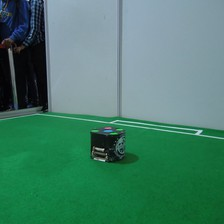robot: (87, 124, 127, 162)
